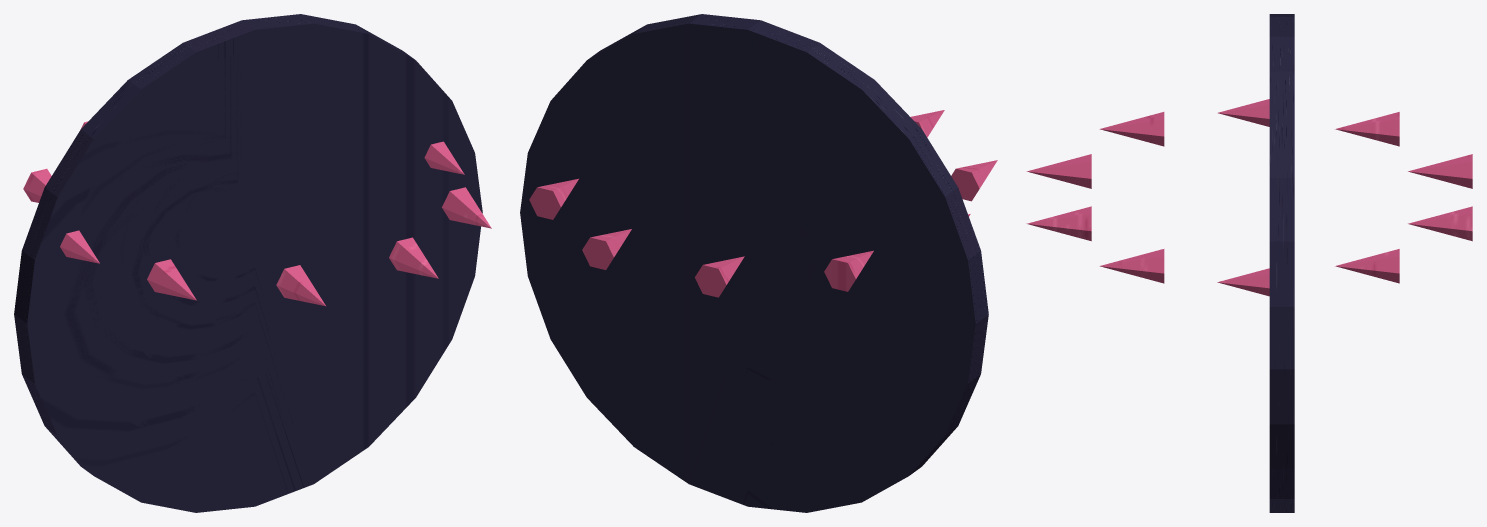
The model's file is ritual_dais_lod0.glb.
3 views of the same model, side by side, from view 1: azimuth 30°, elevation 25°; view 2: azimuth 150°, elevation 25°; view 3: azimuth 270°, elevation 25° (orthographic). The views are drawn at different scales.
Parts seen in each view (by area): view 1: obsidian_0, obsidian_1, obsidian_2, ember_7, ember_4, ember_6, ember_5, ember_3, ember_8, ember_9; view 2: obsidian_0, obsidian_1, obsidian_2, ember_10, ember_9, ember_11, ember_12, ember_7; view 3: obsidian_0, ember_4, ember_7, ember_5, ember_6, ember_11, ember_10, ember_12, ember_9, ember_3, ember_8.
Part boxes in pixels (<box>): obsidian_0: <box>14,14,482,512</box>; obsidian_1: <box>66,41,443,447</box>; obsidian_2: <box>104,63,402,381</box>; ember_7: <box>147,259,196,300</box>; ember_4: <box>442,187,491,228</box>; ember_6: <box>276,265,325,306</box>; ember_5: <box>389,237,438,278</box>; ember_3: <box>424,141,464,174</box>; ember_8: <box>60,230,99,263</box>; ember_9: <box>23,168,51,202</box>; obsidian_0: <box>520,14,988,512</box>; obsidian_1: <box>560,42,936,447</box>; obsidian_2: <box>597,59,893,380</box>; ember_10: <box>695,256,744,297</box>; ember_9: <box>824,250,873,291</box>; ember_11: <box>582,229,631,269</box>; ember_12: <box>529,178,578,219</box>; ember_7: <box>951,160,997,201</box>; obsidian_0: <box>1269,14,1294,512</box>; ember_4: <box>1099,249,1164,283</box>; ember_7: <box>1099,112,1164,146</box>; ember_5: <box>1026,206,1091,241</box>; ember_6: <box>1026,154,1091,188</box>; ember_11: <box>1408,206,1472,241</box>; ember_10: <box>1408,154,1472,188</box>; ember_12: <box>1335,249,1399,283</box>; ember_9: <box>1335,112,1399,146</box>; ember_3: <box>1217,268,1269,296</box>; ember_8: <box>1218,99,1269,126</box>.
Bounding box in the file's own units: 10 × 10 × 8.91.
3 materials, 3 textured.
